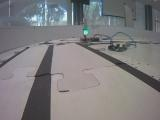tl_green: (82, 15, 90, 36)
